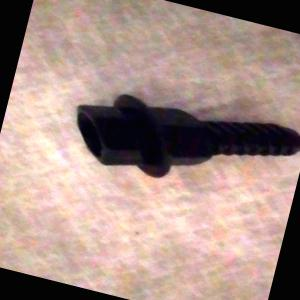parafuso: (62, 75, 300, 212)
